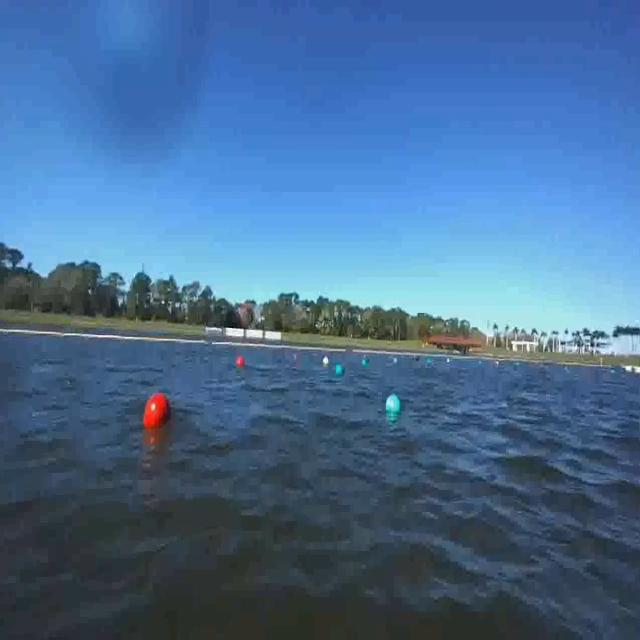green-buoy: (384, 397, 398, 418), (337, 363, 346, 376), (362, 358, 367, 368)
red-buoy: (143, 392, 174, 433), (238, 355, 246, 368)
yellow-buoy: (325, 356, 332, 367)
